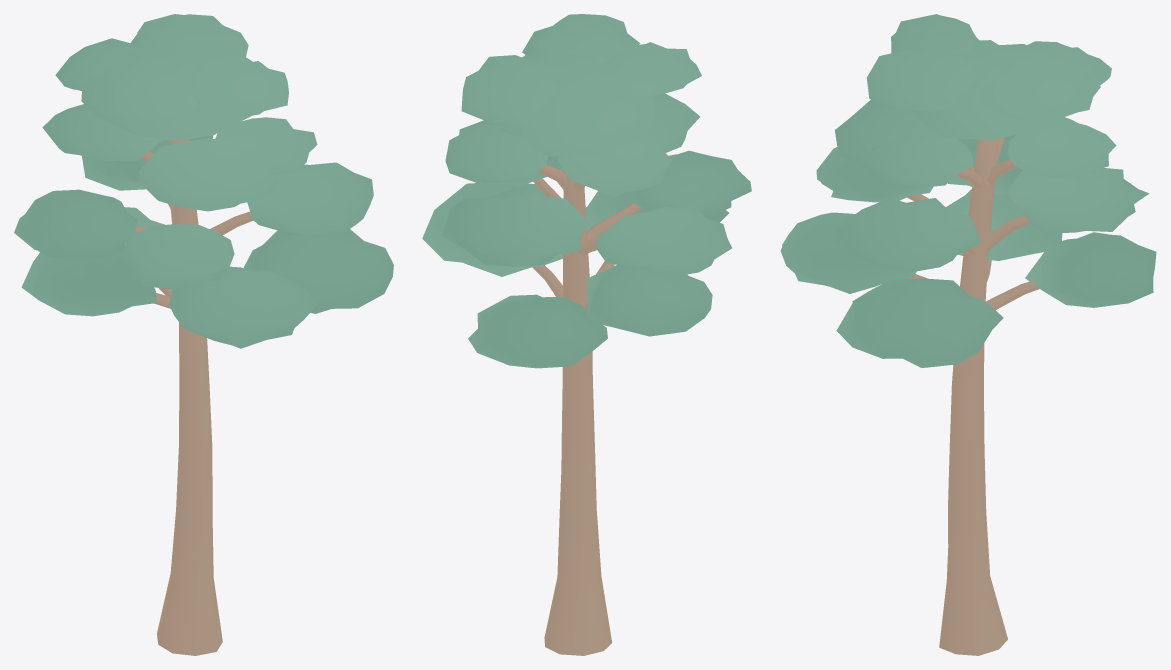
The model's file is Blender_Pine_1.glb.
The picture shows the model from 3 angles, left to right: view 1: azimuth 30°, elevation 25°; view 2: azimuth 150°, elevation 25°; view 3: azimuth 270°, elevation 25°; orthographic projection.
Parts seen in each view (by area): view 1: Blender_Pine_1; view 2: Blender_Pine_1; view 3: Blender_Pine_1.
Part boxes in pixels (bbox=[...]): Blender_Pine_1: bbox=[14, 14, 393, 655]; Blender_Pine_1: bbox=[422, 14, 751, 655]; Blender_Pine_1: bbox=[780, 14, 1156, 655].
Size of the model in its own units: 12.15 by 21.17 by 12.13.
